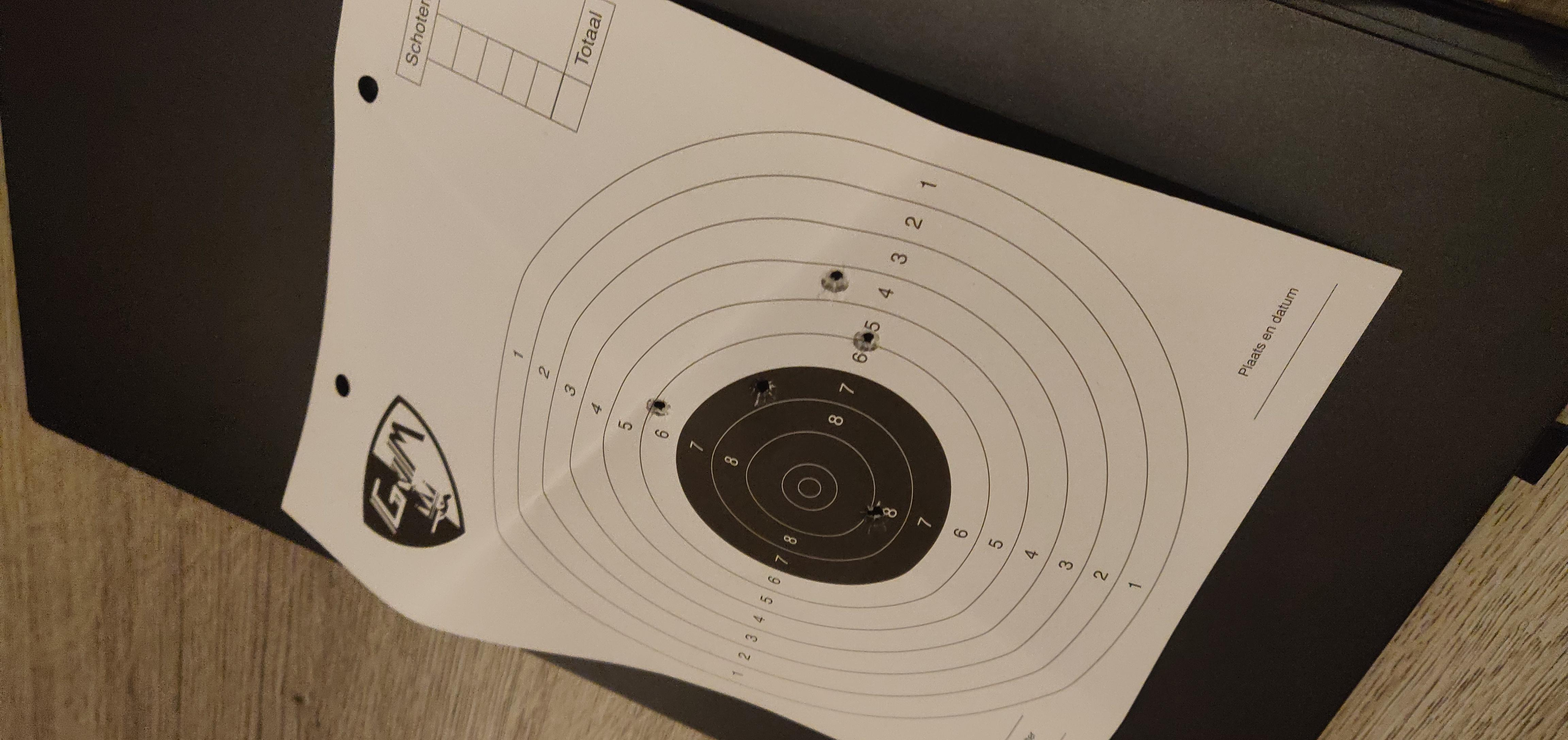hole: (930, 386, 1003, 402), (440, 404, 510, 420), (707, 352, 775, 367), (816, 402, 876, 417), (677, 304, 730, 317)
